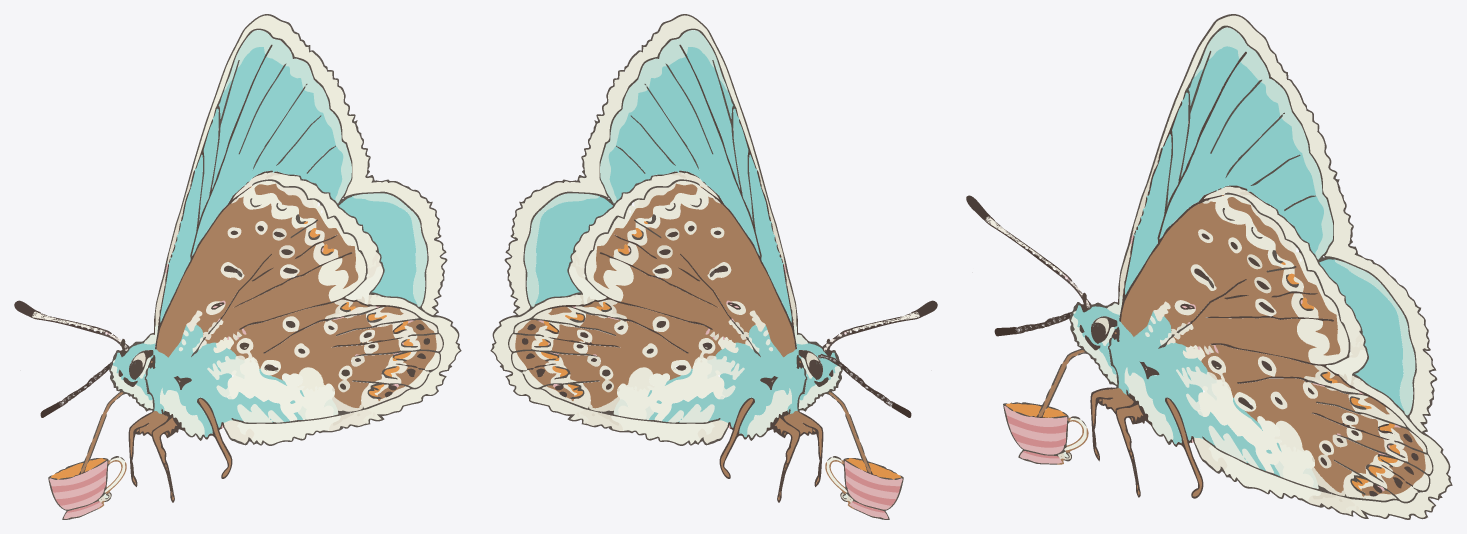
The model's file is butterfly.glb.
The picture shows the model from 3 angles, left to right: view 1: azimuth 30°, elevation 25°; view 2: azimuth 150°, elevation 25°; view 3: azimuth 330°, elevation 25°; orthographic projection. The views are drawn at different scales.
Visible parts, largest first — view 1: n.067, n.315, n.270, n.031, n.271, n.269, n.068, n.272, n.022, n.292, n.298, n.211 (+14 smaller); view 2: n.067, n.315, n.270, n.031, n.271, n.269, n.068, n.272, n.022, n.292, n.298, n.211 (+14 smaller); view 3: n.067, n.315, n.031, n.270, n.271, n.269, n.068, n.272, n.022, n.292, n.298, n.211 (+16 smaller).
Part boxes in pixels (x1,y1,x2,y2): n.067: (156, 196, 394, 407); n.315: (192, 56, 343, 255); n.270: (192, 15, 445, 315); n.031: (113, 325, 289, 437); n.271: (339, 196, 416, 304); n.269: (154, 14, 461, 445); n.068: (227, 357, 334, 420); n.272: (224, 30, 351, 203); n.022: (363, 295, 459, 423); n.292: (160, 154, 202, 322); n.298: (213, 47, 265, 183); n.211: (254, 183, 358, 288); n.067: (557, 196, 795, 408); n.315: (608, 56, 759, 255); n.270: (506, 15, 759, 315); n.031: (662, 325, 837, 437); n.271: (535, 196, 612, 304); n.269: (490, 14, 797, 445); n.068: (617, 357, 724, 420); n.272: (600, 30, 727, 203); n.022: (492, 295, 588, 423); n.292: (749, 154, 791, 322); n.298: (686, 47, 738, 183); n.211: (593, 183, 697, 288); n.067: (1121, 201, 1380, 492); n.315: (1159, 62, 1323, 254); n.031: (1073, 305, 1265, 470); n.270: (1159, 15, 1434, 431); n.271: (1319, 259, 1403, 410); n.269: (1118, 14, 1452, 519); n.068: (1197, 379, 1314, 487); n.272: (1194, 27, 1333, 259); n.022: (1346, 377, 1450, 518); n.292: (1125, 134, 1171, 294); n.298: (1182, 46, 1239, 172); n.211: (1227, 197, 1340, 355).
Size of the model in its own units: 2.22 by 2.21 by 0.0497.
